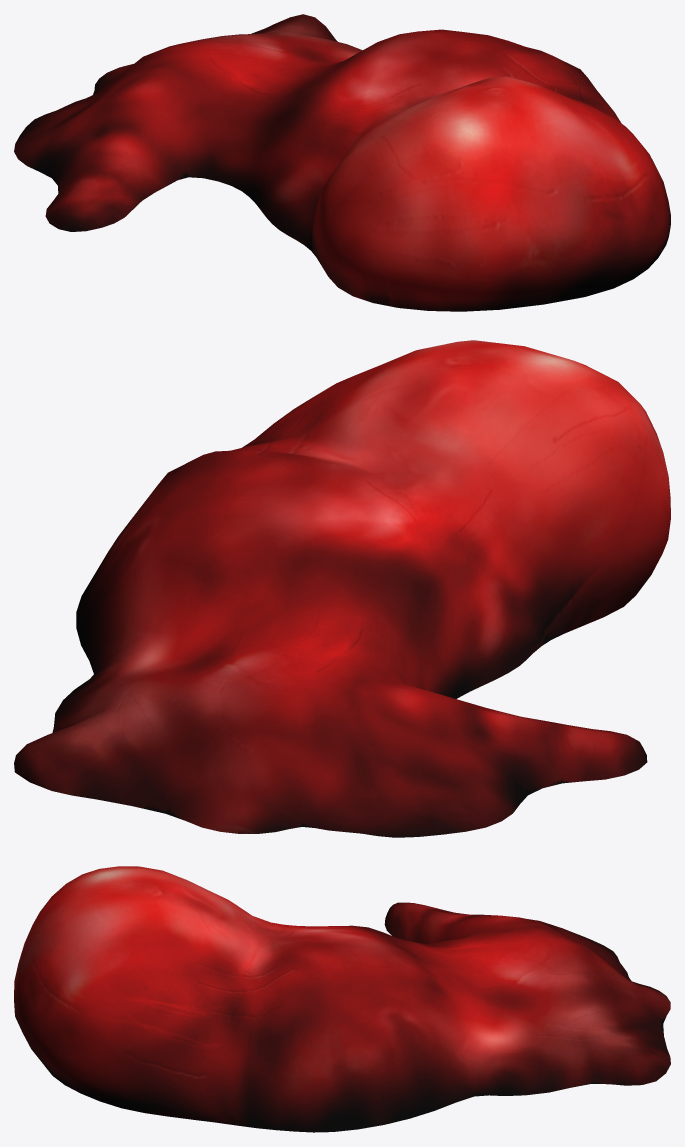
Rendered from Bloody Pudding.fbx.
3 renders of one model, top to bottom at view 1: azimuth 30°, elevation 25°; view 2: azimuth 150°, elevation 25°; view 3: azimuth 270°, elevation 25°, orthographic. The views are drawn at different scales.
Visible parts, largest first — view 1: Body; view 2: Body; view 3: Body.
Boxes of the visible parts, box(x1,y1,x2,y2) form: Body: box(14, 14, 670, 311); Body: box(14, 340, 670, 837); Body: box(14, 866, 670, 1132).
Bounding box in the file's own units: 1110 × 349 × 1382.
1 material, 1 textured.
